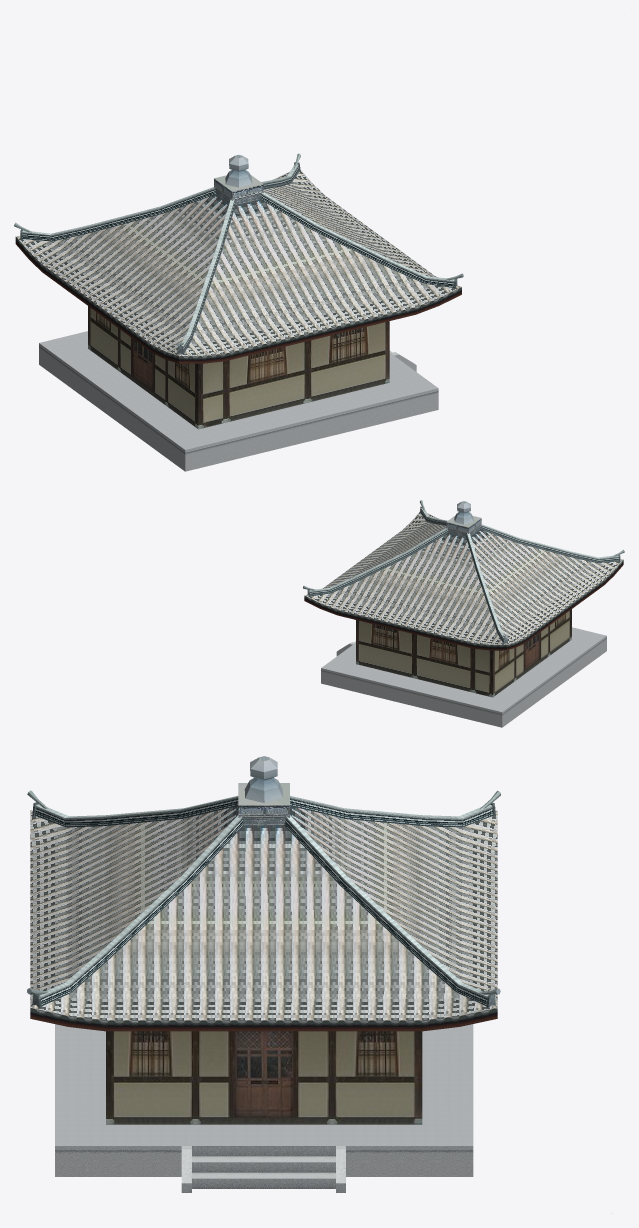
File: ryuanjitemple.glb
3 renders of one model, top to bottom at view 1: azimuth 30°, elevation 25°; view 2: azimuth 150°, elevation 25°; view 3: azimuth 270°, elevation 25°, orthographic. The views are drawn at different scales.
Visible parts, largest first — view 1: instance_0.014, instance_0.016, instance_0.035, instance_0.024, instance_0.021, instance_0.015, instance_0.007, instance_0.011, instance_0.009, instance_0.001, instance_0; view 2: instance_0.014, instance_0.017, instance_0.035, instance_0.024, instance_0.021, instance_0.015, instance_0.013, instance_0.009, instance_0.011, instance_0.001, instance_0; view 3: instance_0.014, instance_0.022, instance_0.035, instance_0.024, instance_0.020, instance_0.015, instance_0.013, instance_0.007, instance_0.011, instance_0.009, instance_0.001, instance_0.
Part boxes in pixels (bbox=[...]): instance_0.014: bbox=[16, 170, 461, 355]; instance_0.016: bbox=[198, 321, 389, 429]; instance_0.035: bbox=[39, 331, 437, 449]; instance_0.024: bbox=[39, 343, 438, 471]; instance_0.021: bbox=[88, 306, 198, 428]; instance_0.015: bbox=[15, 236, 461, 363]; instance_0.007: bbox=[260, 192, 454, 287]; instance_0.011: bbox=[22, 187, 215, 241]; instance_0.009: bbox=[181, 199, 235, 352]; instance_0.001: bbox=[214, 174, 263, 204]; instance_0: bbox=[225, 154, 252, 187]; instance_0.014: bbox=[305, 512, 623, 644]; instance_0.017: bbox=[356, 620, 492, 697]; instance_0.035: bbox=[321, 627, 606, 711]; instance_0.024: bbox=[321, 636, 606, 727]; instance_0.021: bbox=[493, 609, 571, 696]; instance_0.015: bbox=[304, 560, 623, 650]; instance_0.013: bbox=[309, 528, 448, 596]; instance_0.009: bbox=[480, 524, 618, 562]; instance_0.011: bbox=[466, 533, 504, 642]; instance_0.001: bbox=[446, 515, 481, 536]; instance_0: bbox=[454, 501, 473, 524]; instance_0.014: bbox=[30, 806, 497, 1020]; instance_0.022: bbox=[106, 1031, 422, 1124]; instance_0.035: bbox=[55, 1024, 473, 1145]; instance_0.024: bbox=[55, 1146, 473, 1176]; instance_0.020: bbox=[192, 1146, 335, 1188]; instance_0.015: bbox=[30, 1007, 497, 1031]; instance_0.013: bbox=[284, 815, 488, 1006]; instance_0.007: bbox=[39, 815, 243, 1005]; instance_0.011: bbox=[290, 796, 493, 827]; instance_0.009: bbox=[35, 796, 238, 827]; instance_0.001: bbox=[238, 783, 289, 825]; instance_0: bbox=[244, 756, 282, 802].
Size of the model in its own units: 23.46 by 7.95 by 12.77.
Materials: 11 (11 with a texture image).
